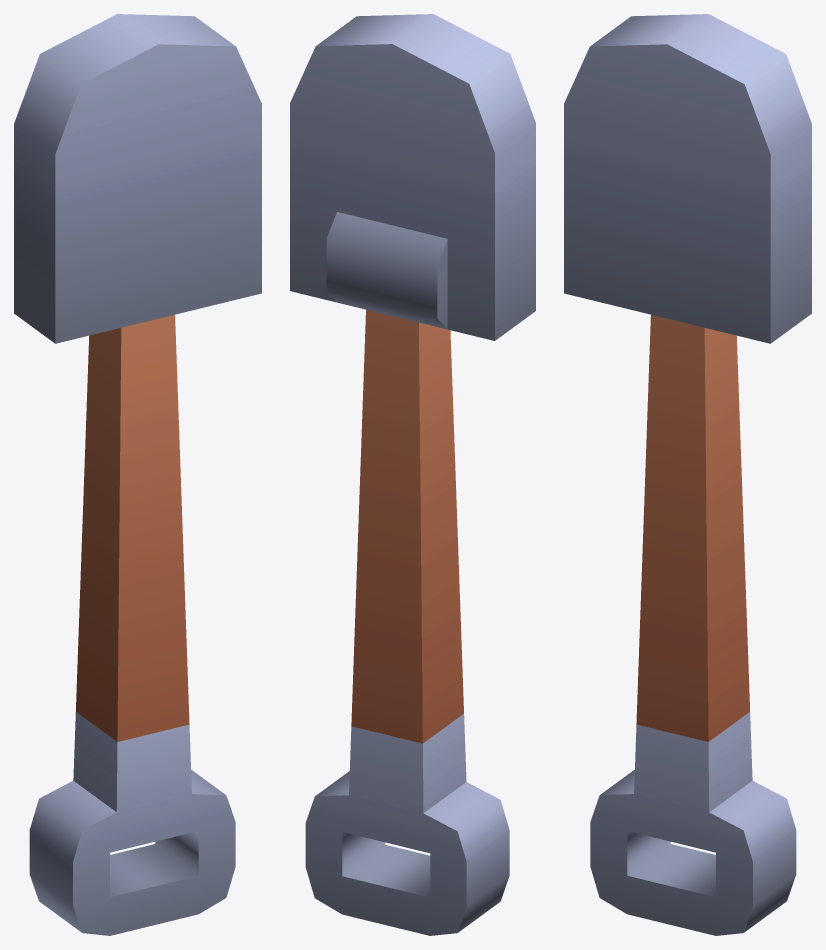
File: surv.tool_shovel.glb
3 views of the same model, side by side, from view 1: azimuth 30°, elevation 25°; view 2: azimuth 150°, elevation 25°; view 3: azimuth 330°, elevation 25° (orthographic).
Parts seen in each view (by area): view 1: tool-shovel; view 2: tool-shovel; view 3: tool-shovel.
Boxes of the visible parts, left/top/right/bottom form: tool-shovel: left=14, top=14, right=261, bottom=935; tool-shovel: left=290, top=14, right=535, bottom=935; tool-shovel: left=564, top=14, right=811, bottom=935.
Bounding box in the file's own units: 0.1855 × 0.7587 × 0.0809.
Materials: 1 (1 with a texture image).
